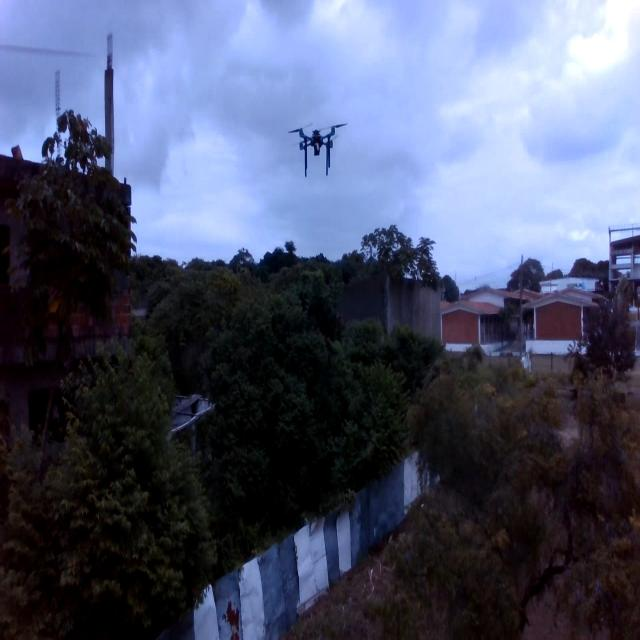-uav-: (287, 104, 349, 185)
